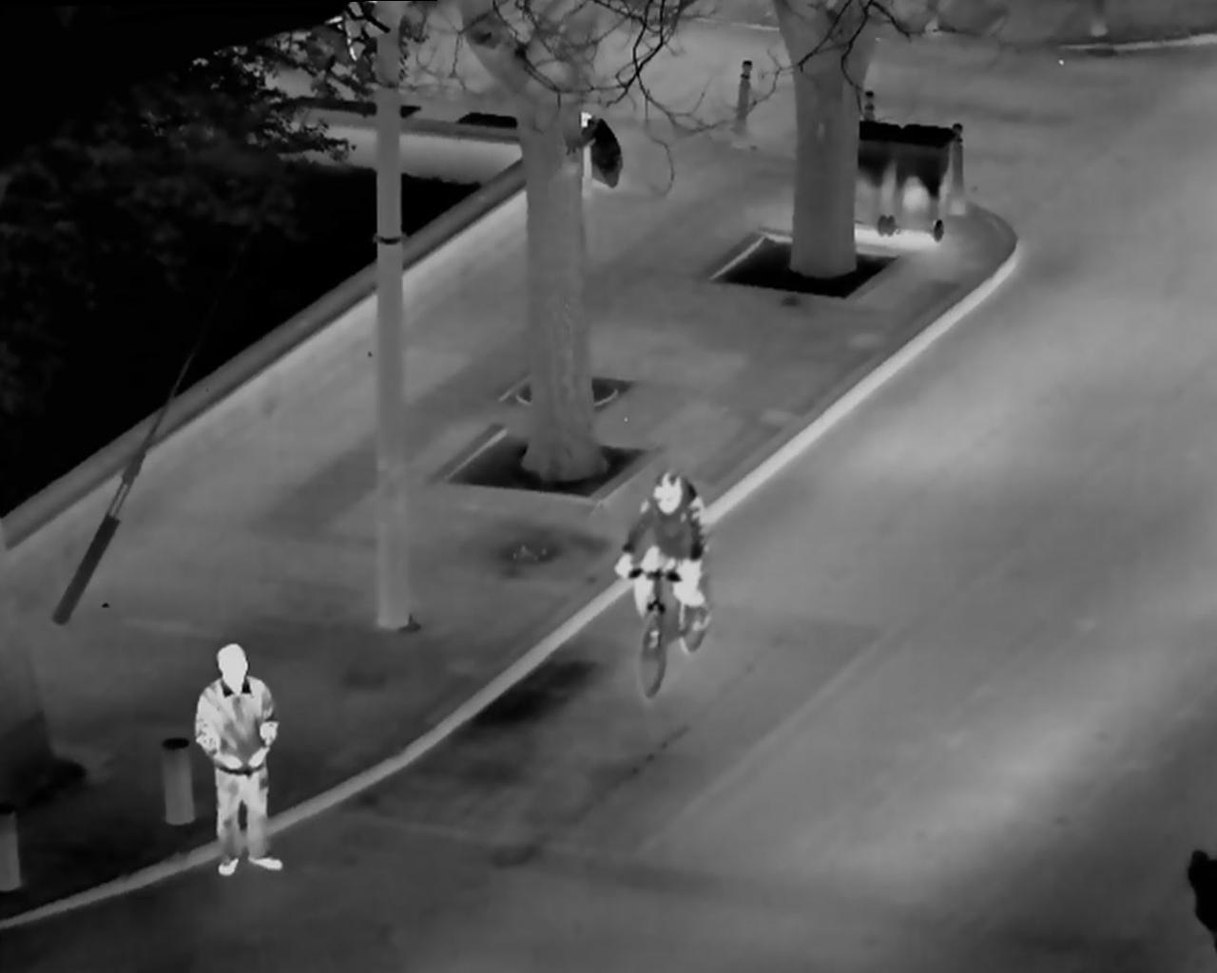person: (605, 465, 731, 710), (189, 634, 293, 887)
